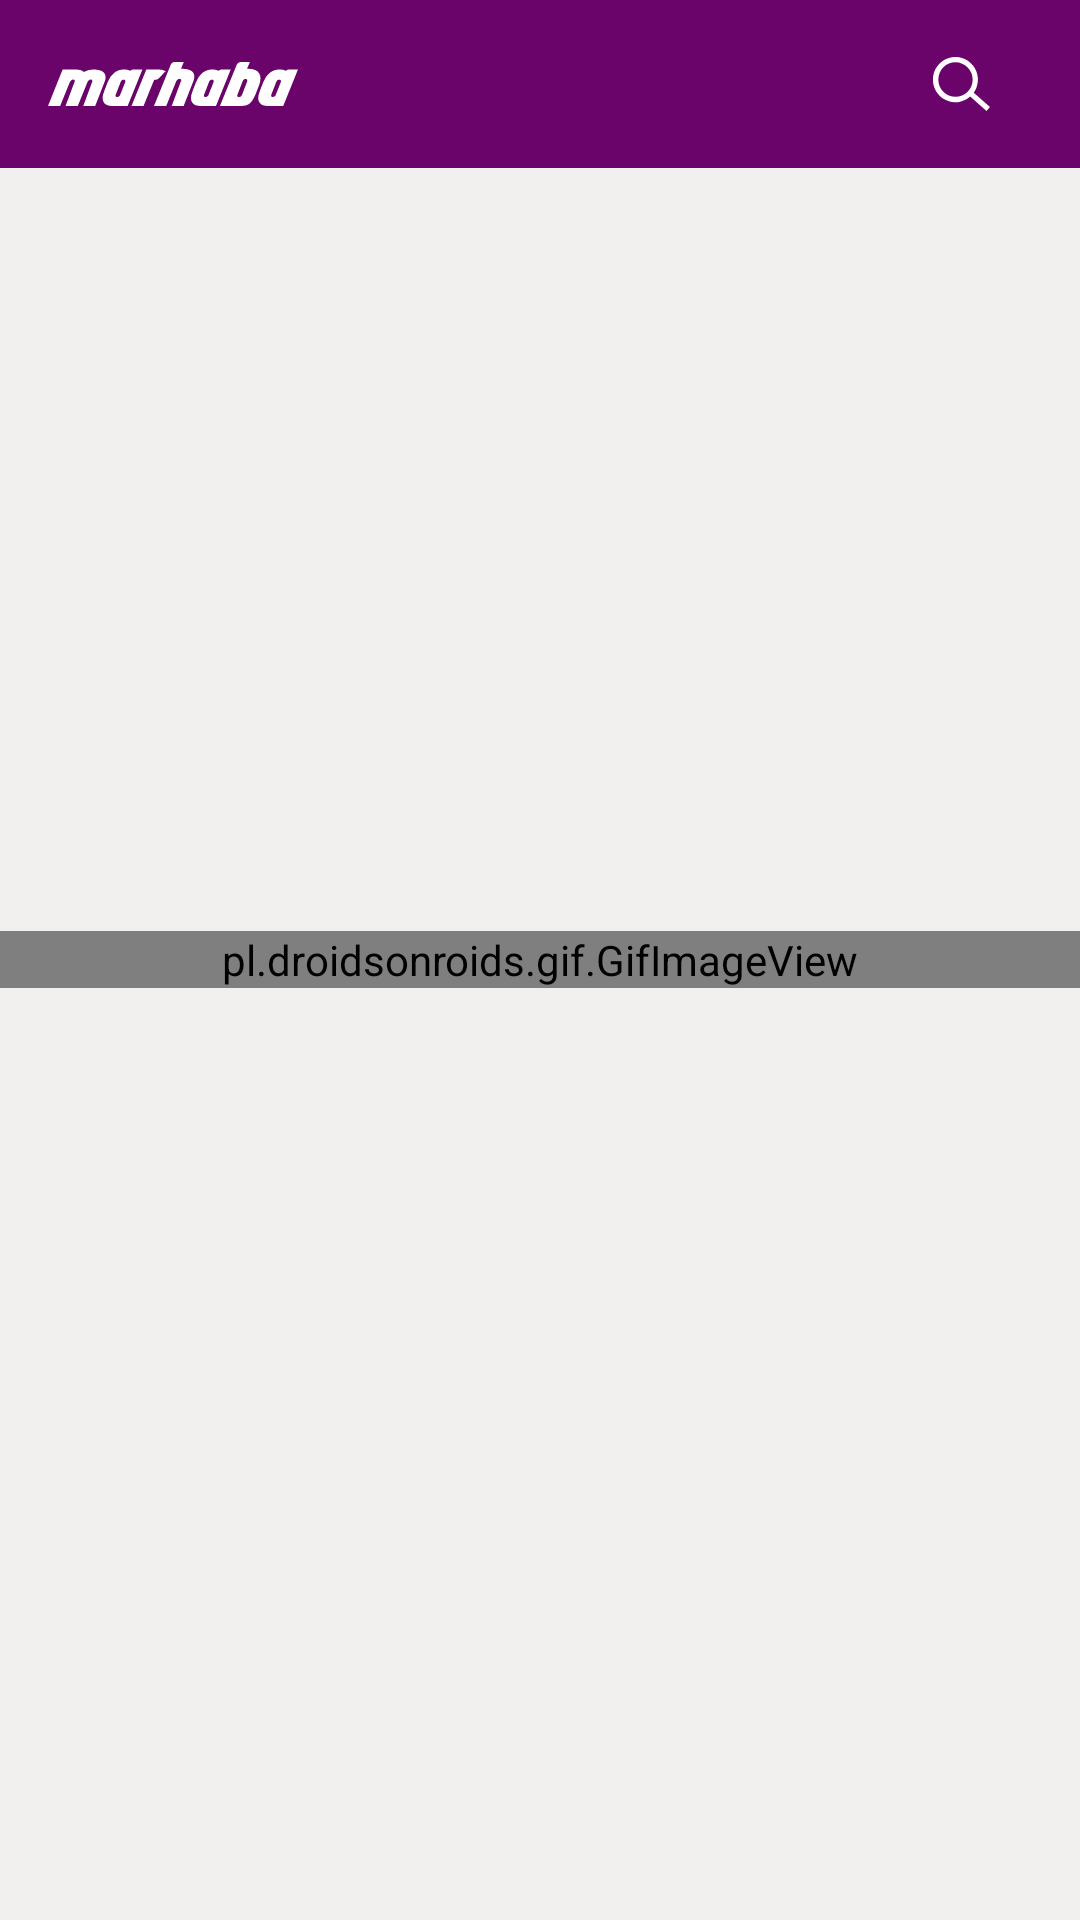

Icons on this 1080 x 1920 Android screen, each with the point to tap as (x,y):
search: (961,84)
